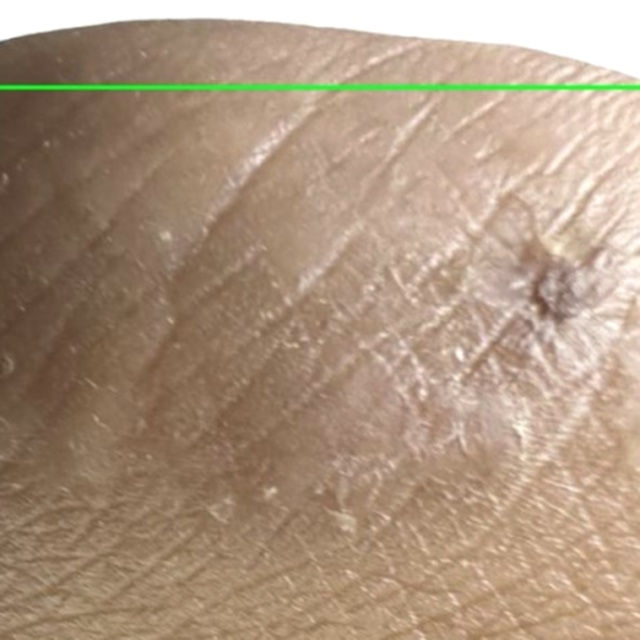Scabies: (0, 0, 639, 87)
